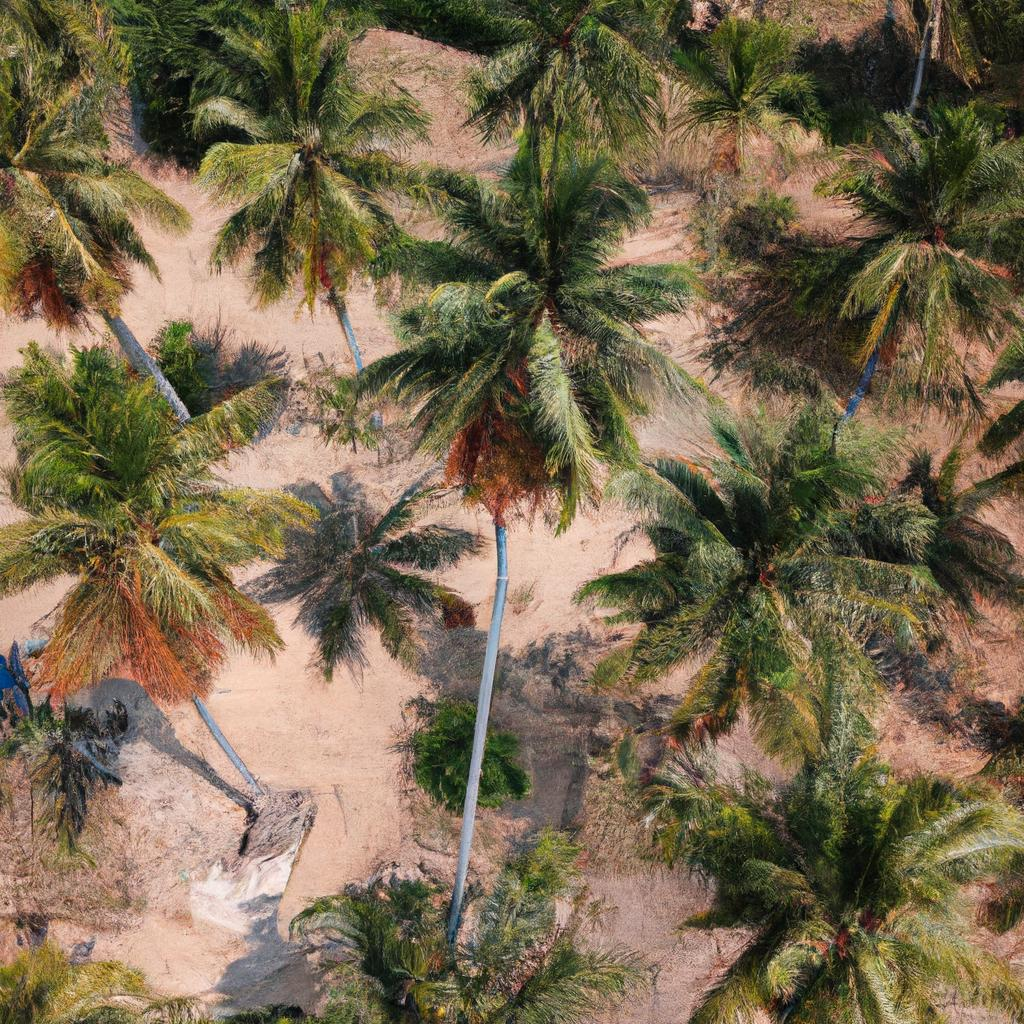coconut_tree: (364, 140, 693, 547), (0, 304, 293, 729), (601, 402, 959, 732), (622, 731, 1017, 1023), (185, 39, 447, 324), (809, 86, 1023, 428)
